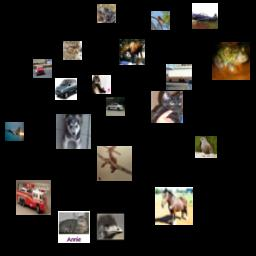airplane: (97, 146, 132, 181), (192, 3, 218, 29), (5, 122, 24, 141)
automobile: (55, 78, 77, 100), (33, 59, 52, 78), (106, 97, 125, 116)
bird: (96, 212, 125, 241), (195, 136, 217, 158), (151, 11, 170, 30)
cat: (151, 91, 183, 123), (58, 211, 90, 243), (63, 41, 82, 60), (92, 75, 111, 94)
deer: (119, 39, 145, 65)
dog: (56, 114, 91, 149)
frog: (212, 42, 250, 80), (97, 4, 116, 23)
truck: (16, 180, 51, 215), (166, 64, 192, 90)
